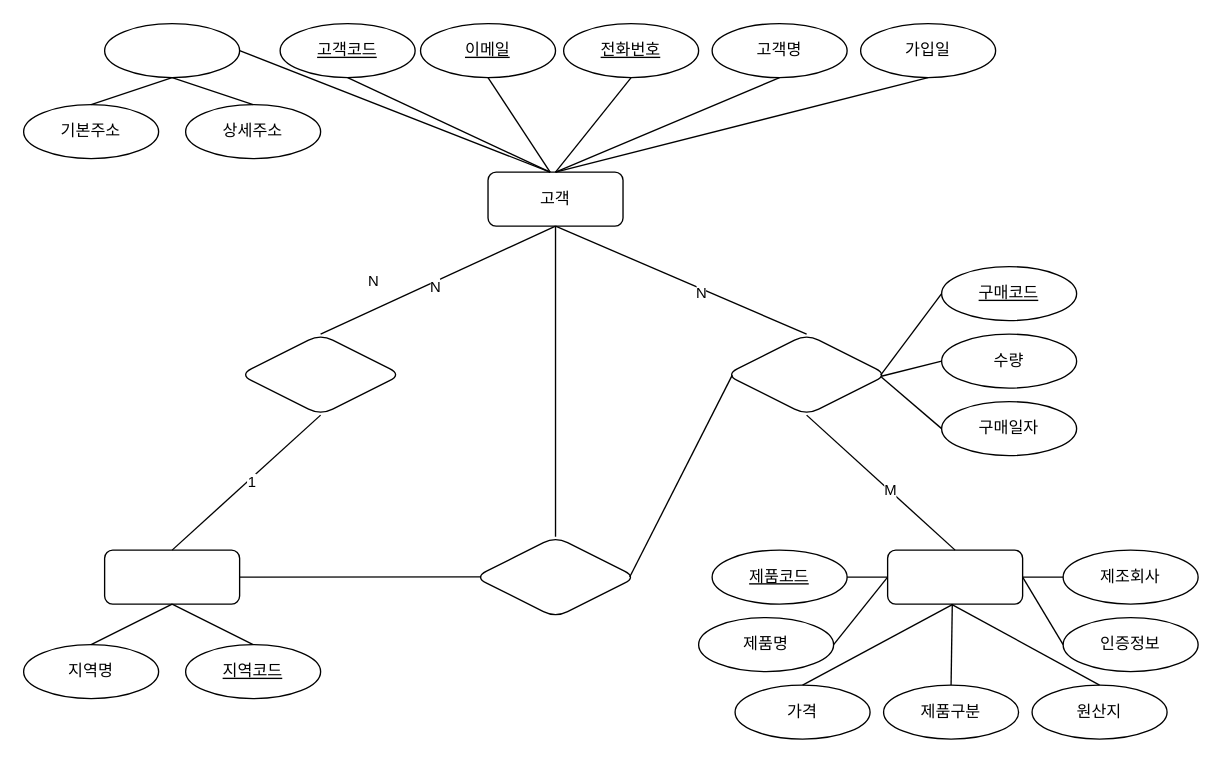
The diagram is 1222 pixels wide and 763 high, and some of its shapes have lost their labels. Each missing label, with the box of its shape:
관리: (238, 333, 402, 415)
구매: (724, 333, 888, 415)
발송: (473, 535, 637, 618)
제품: (886, 549, 1023, 604)
주소: (103, 22, 240, 78)
지역: (103, 549, 240, 604)
